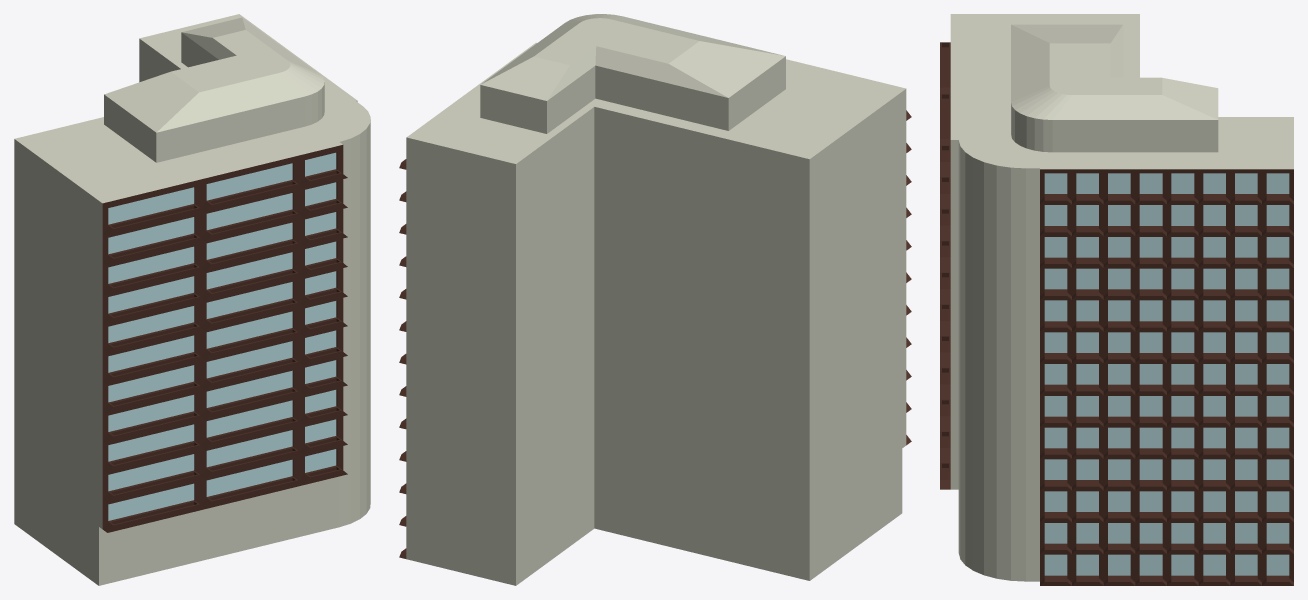
Rendered from Big Boi White.fbx.
3 views of the same model, side by side, from view 1: azimuth 30°, elevation 25°; view 2: azimuth 150°, elevation 25°; view 3: azimuth 270°, elevation 25° (orthographic). The views are drawn at different scales.
Parts seen in each view (by area): view 1: Cube.002; view 2: Cube.002; view 3: Cube.002.
Part boxes in pixels (x1,y1,x2,y2): Cube.002: [14, 14, 370, 585]; Cube.002: [399, 14, 911, 585]; Cube.002: [940, 14, 1293, 585].
Bounding box in the file's own units: 6221 × 8379 × 5856.
